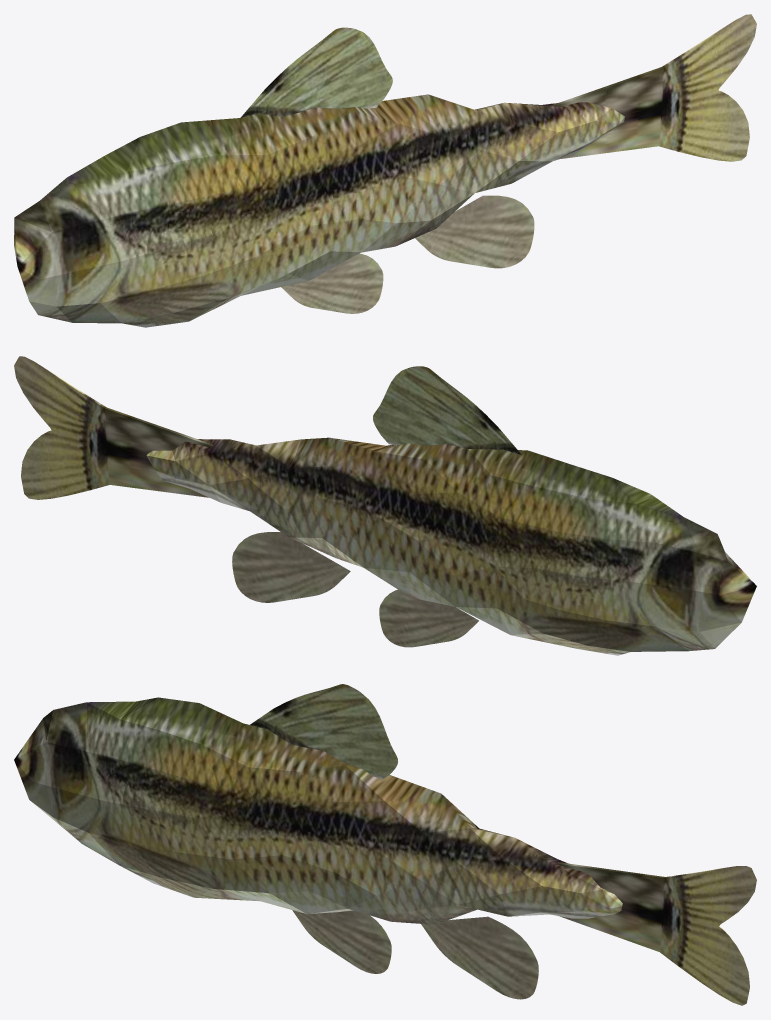
Rendered from minnows.fbx.
The picture shows the model from 3 angles, top to bottom: view 1: azimuth 30°, elevation 25°; view 2: azimuth 150°, elevation 25°; view 3: azimuth 330°, elevation 25°; orthographic projection. The views are drawn at different scales.
Parts seen in each view (by area): view 1: Line001, Line002, Line011, Line012, Line013; view 2: Line001, Line002, Line011, Line012, Line013; view 3: Line001, Line002, Line011, Line012, Line013.
Boxes of the visible parts, left/top/right/bottom form: Line001: left=14, top=94, right=624, bottom=327; Line002: left=550, top=14, right=756, bottom=161; Line011: left=241, top=27, right=392, bottom=117; Line012: left=415, top=195, right=534, bottom=268; Line013: left=281, top=253, right=383, bottom=313; Line001: left=146, top=437, right=756, bottom=655; Line002: left=14, top=356, right=213, bottom=499; Line011: left=373, top=366, right=521, bottom=454; Line012: left=232, top=532, right=350, bottom=602; Line013: left=379, top=589, right=478, bottom=647; Line001: left=14, top=697, right=622, bottom=924; Line002: left=557, top=862, right=756, bottom=1005; Line011: left=250, top=684, right=397, bottom=779; Line012: left=421, top=916, right=538, bottom=999; Line013: left=292, top=910, right=391, bottom=973.
Bounding box in the file's own units: 987 × 366 × 96.15.
Materials: 3 (3 with a texture image).
